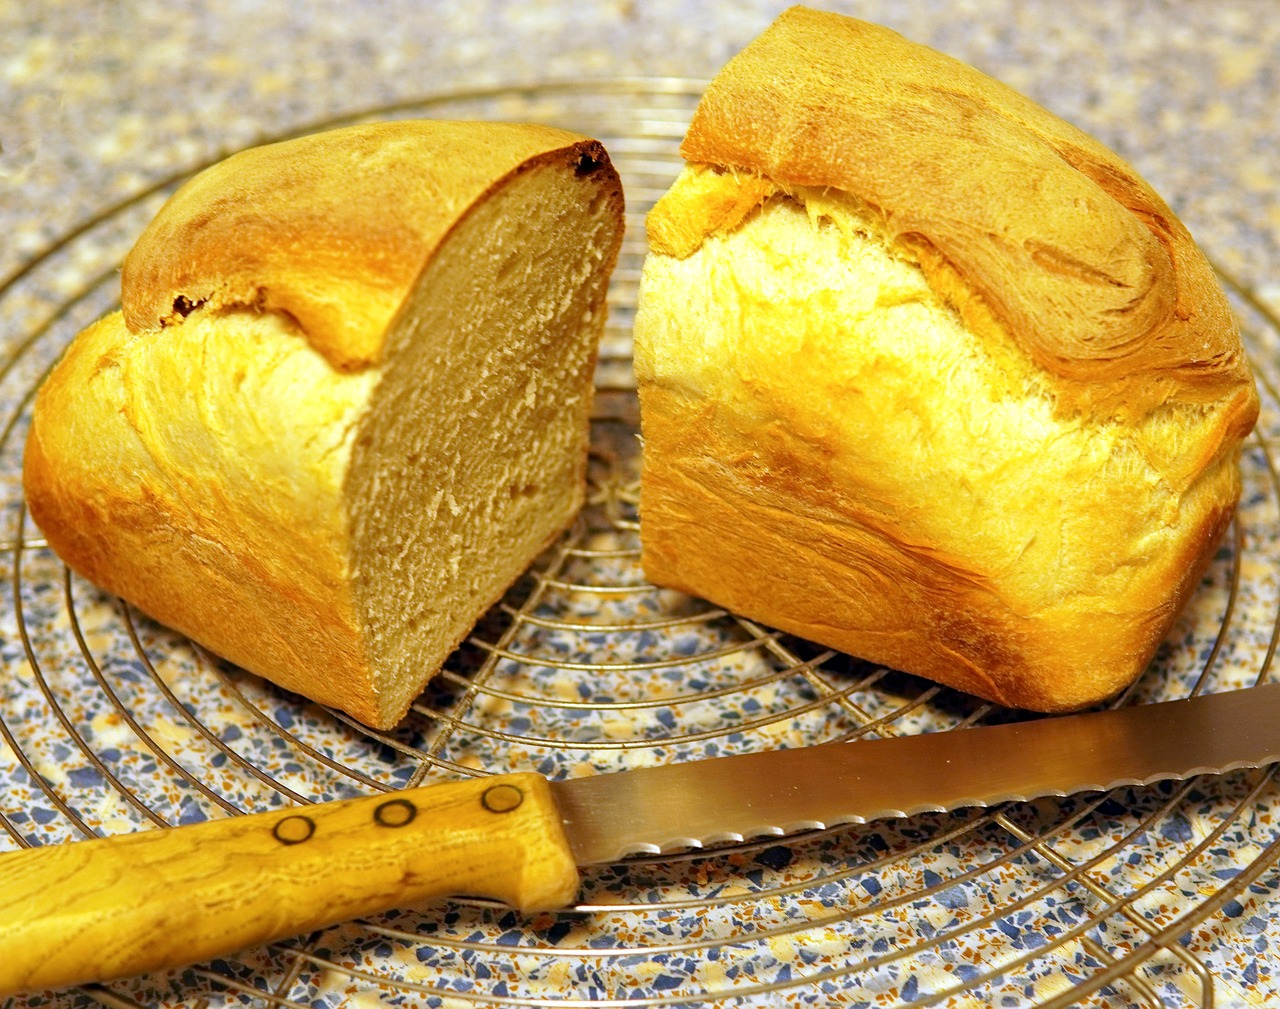knife: (4, 671, 1280, 999)
